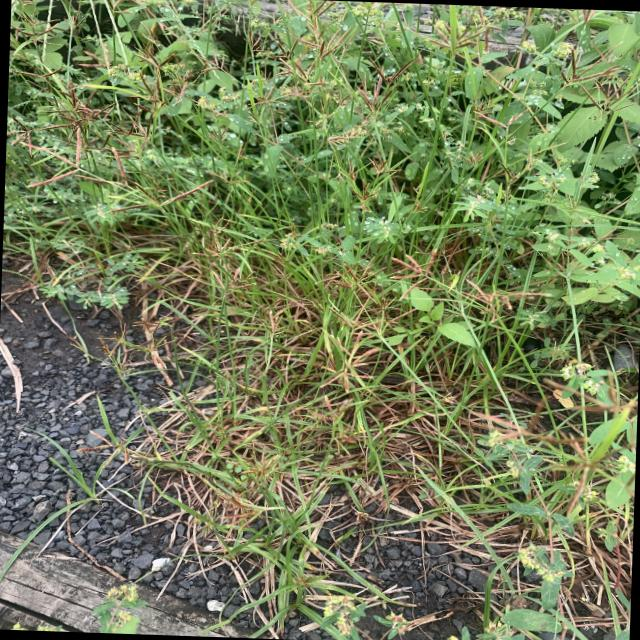cyperus: (4, 57, 183, 201), (459, 363, 638, 503), (382, 245, 558, 322), (246, 0, 346, 111), (268, 260, 374, 336), (551, 40, 639, 120), (340, 50, 420, 126), (418, 4, 506, 64), (188, 218, 250, 300), (92, 317, 172, 365), (336, 152, 402, 208), (470, 98, 536, 138)
